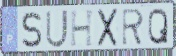H: (69, 8, 96, 49)
Q: (147, 7, 169, 46)
R: (121, 7, 145, 47)
S: (21, 10, 43, 49)
U: (45, 9, 70, 50)
X: (96, 7, 119, 49)
